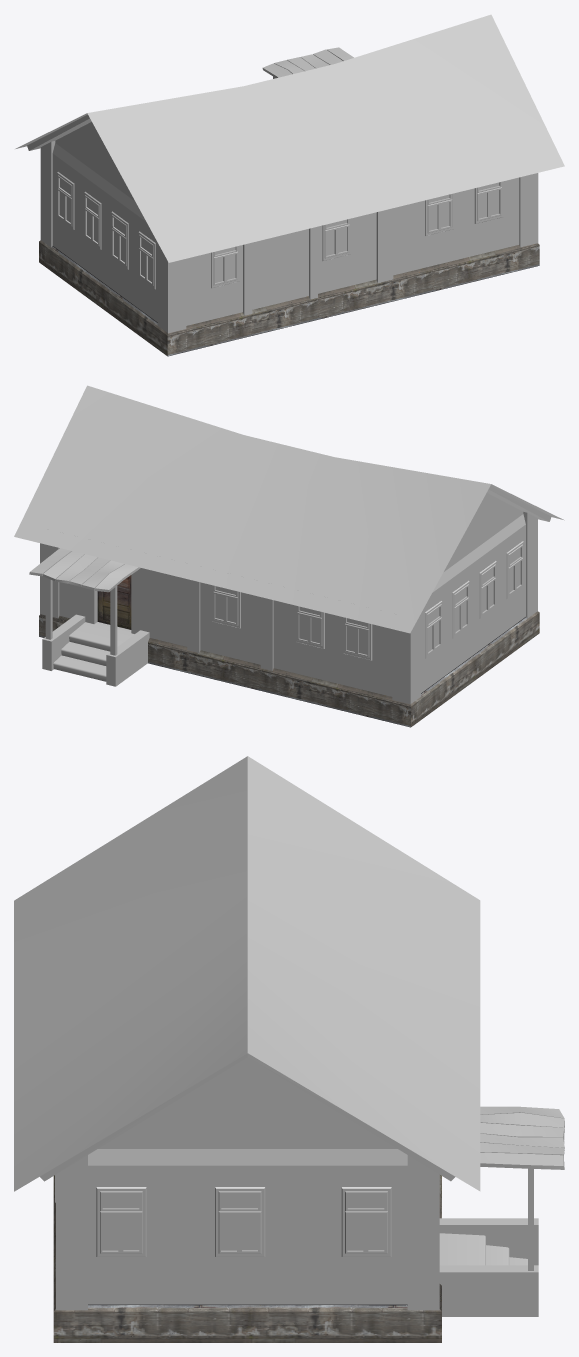
Rendered from house_01.FBX.
3 views of the same model, one above another, from view 1: azimuth 30°, elevation 25°; view 2: azimuth 150°, elevation 25°; view 3: azimuth 270°, elevation 25° (orthographic). The views are drawn at different scales.
Visible parts, largest first — view 1: house_01; view 2: house_01; view 3: house_01.
Part boxes in pixels (left/top/right/bottom): house_01: left=15, top=14, right=564, bottom=356; house_01: left=14, top=385, right=564, bottom=727; house_01: left=14, top=756, right=564, bottom=1342.
Size of the model in its own units: 151 by 71.43 by 118.
